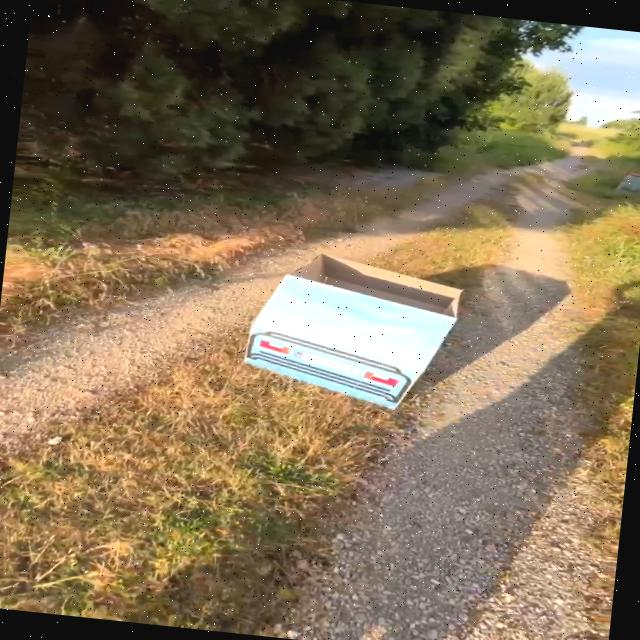blue_car: (203, 223, 528, 447)
